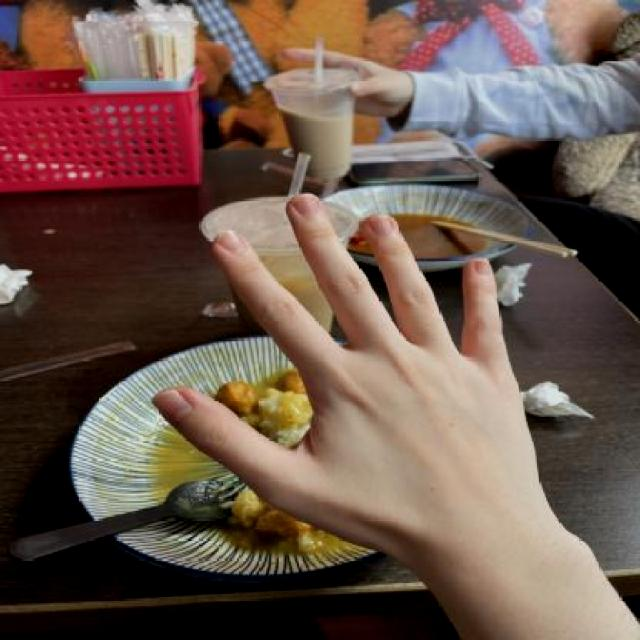no_glove: (142, 180, 580, 578)
